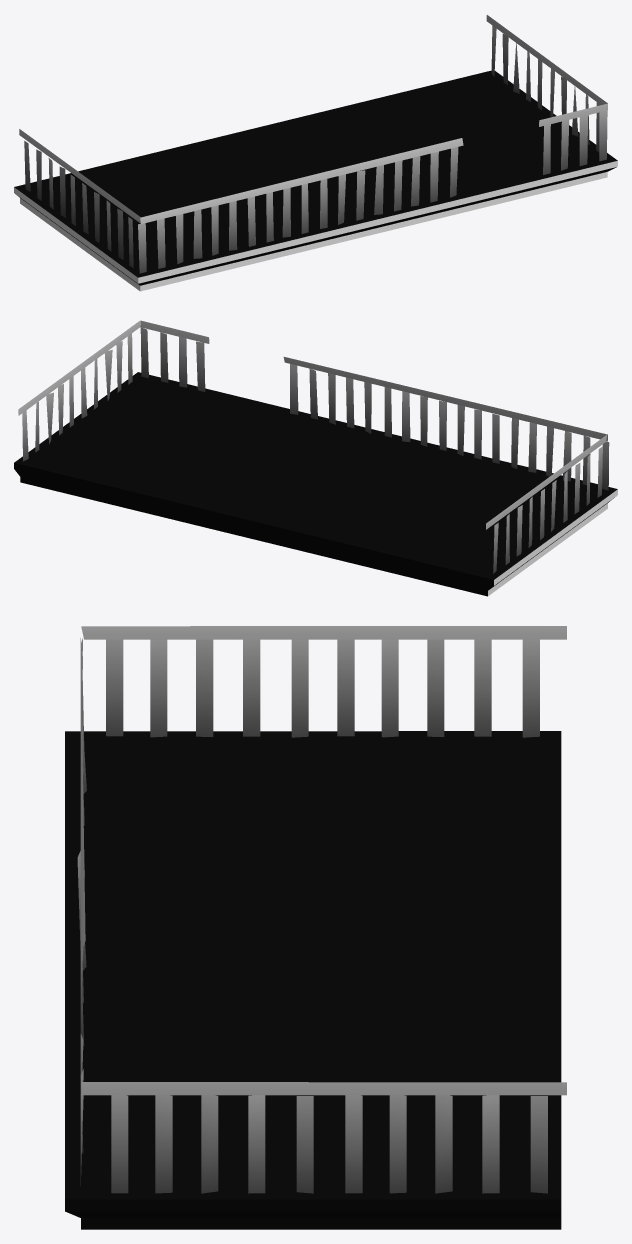
Rendered from Porch2.glb.
3 renders of one model, top to bottom at view 1: azimuth 30°, elevation 25°; view 2: azimuth 150°, elevation 25°; view 3: azimuth 270°, elevation 25°, orthographic. The views are drawn at different scales.
Parts seen in each view (by area): view 1: Porch2; view 2: Porch2; view 3: Porch2.
Boxes of the visible parts, bbox=[...] form: Porch2: bbox=[14, 15, 617, 291]; Porch2: bbox=[14, 320, 617, 596]; Porch2: bbox=[65, 626, 566, 1229].
Size of what is drawn, in the model's own units: 12.05 by 1.77 by 5.46.
1 material, 1 textured.
